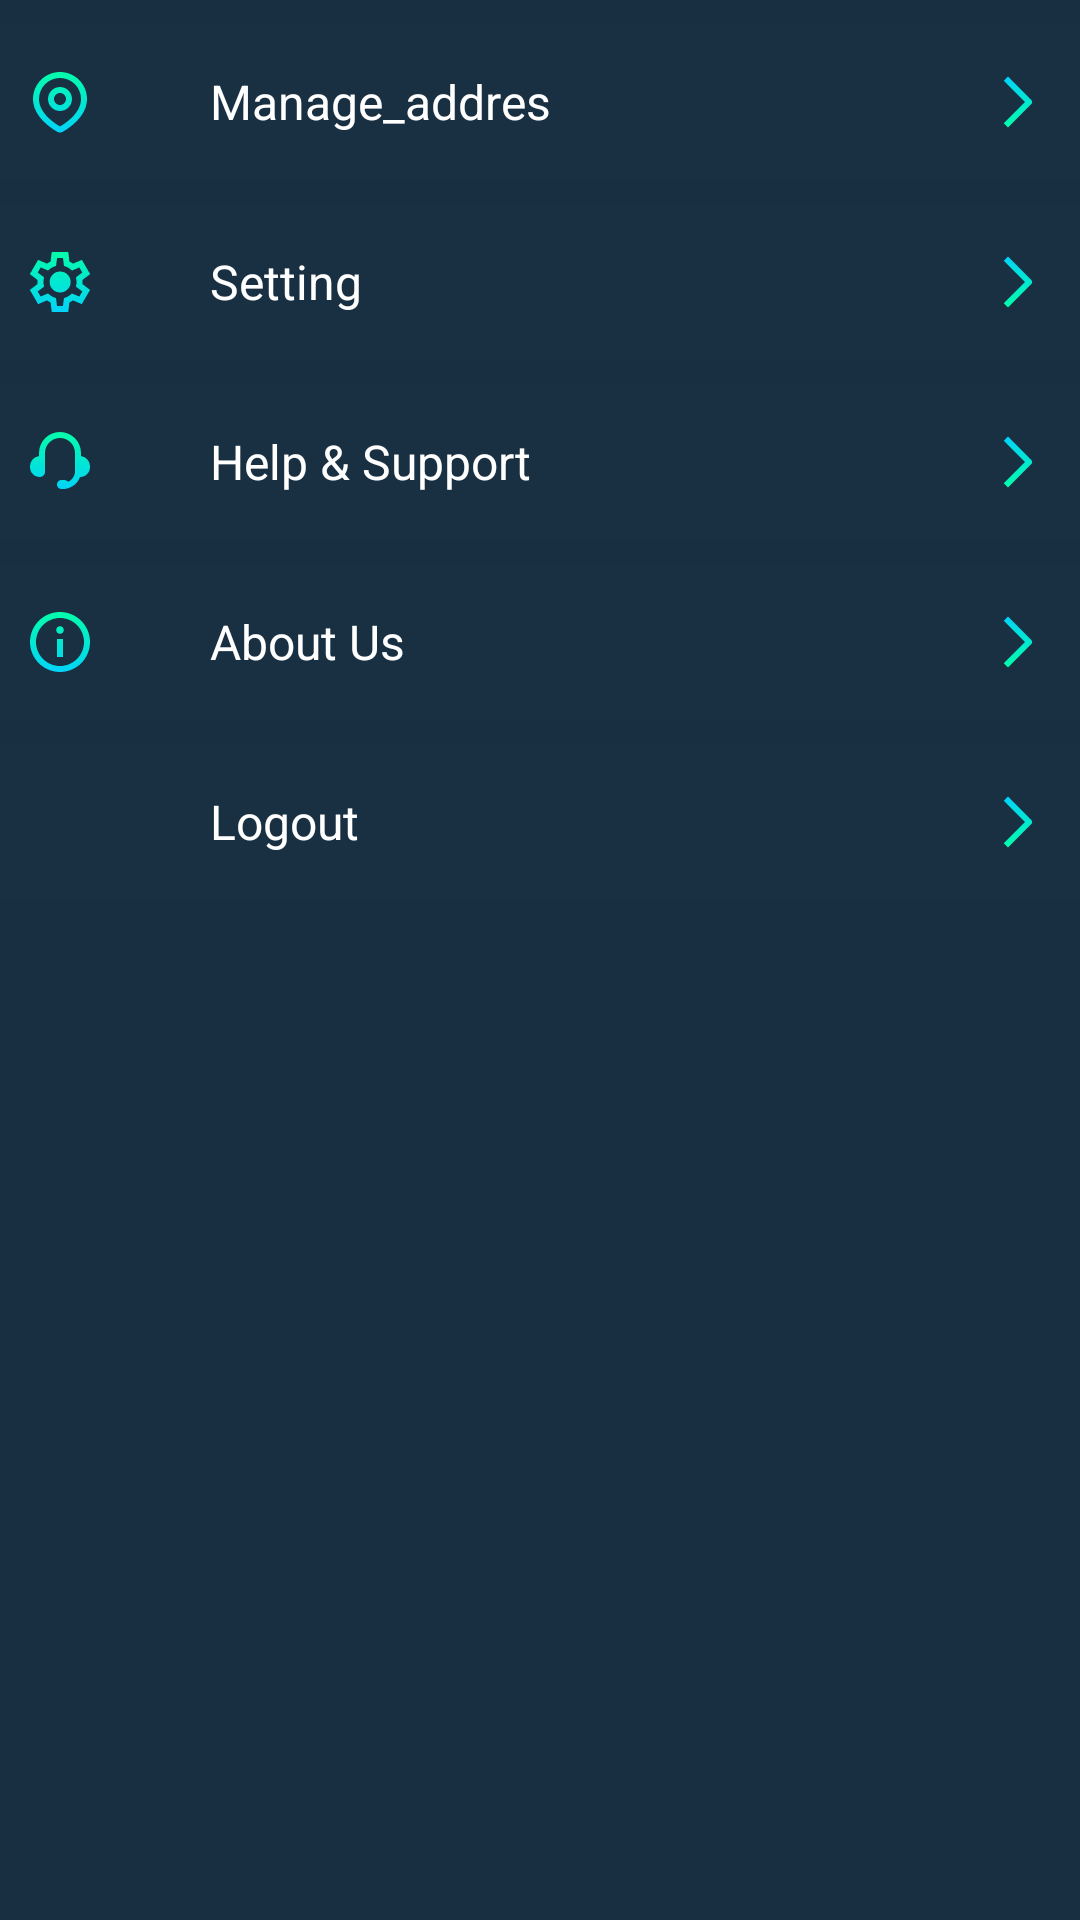

Where icons sit on this 1080×1920 app screen, as (x1, y1, x2, y2):
arrow mark: (1004, 77, 1032, 128), (1004, 257, 1032, 308), (1004, 437, 1032, 488), (1004, 617, 1032, 668), (1004, 797, 1032, 848)
ix about: (30, 612, 90, 672)
location: (33, 72, 87, 133)
support care: (30, 432, 90, 489)
